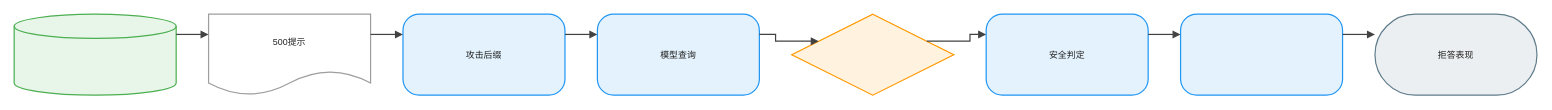
Image size: 1552x110. Some labels were removed from this diagram. Here are the shapes that lost their labels. From the top down, the box of each, then its label:
(13, 13, 176, 95): 有害任务
(791, 13, 954, 95): 是否服从
(1180, 13, 1343, 95): 成功率
